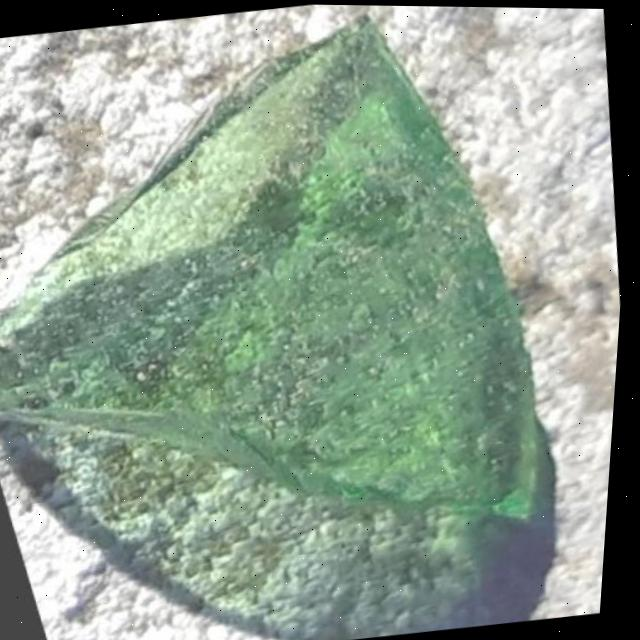Dry: (225, 255, 561, 556), (192, 10, 504, 289), (30, 213, 259, 477), (85, 150, 221, 225), (0, 297, 52, 414)
